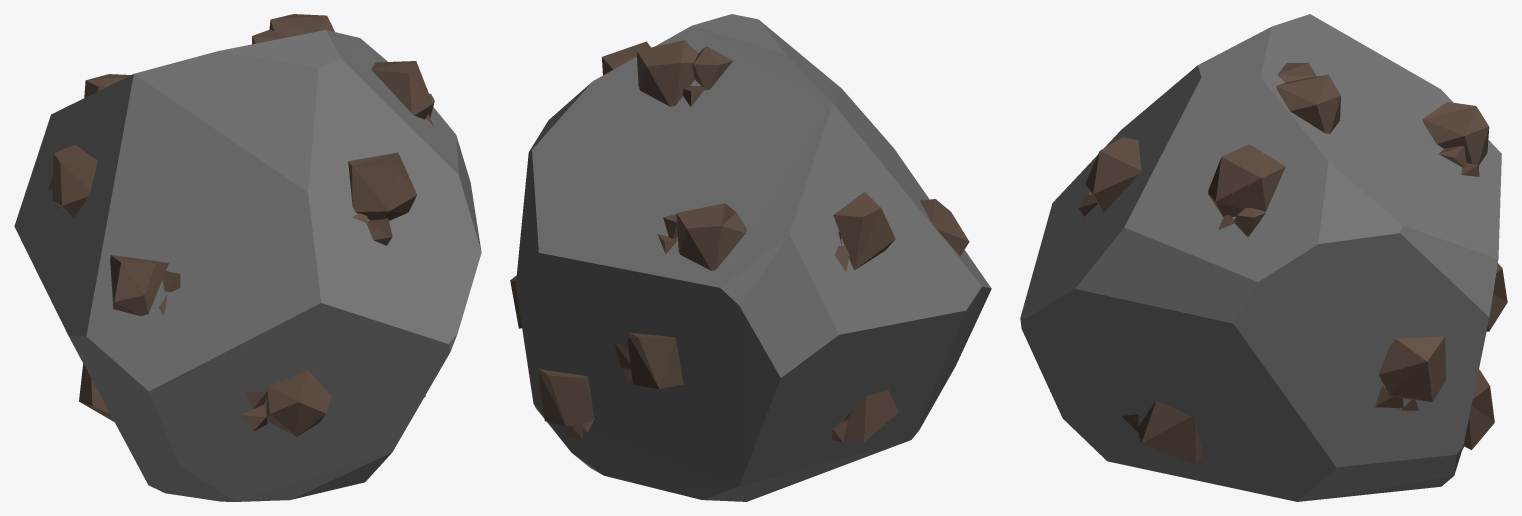
Rendered from SM_Ore_001_LOD2.fbx.
The picture shows the model from 3 angles, left to right: view 1: azimuth 30°, elevation 25°; view 2: azimuth 150°, elevation 25°; view 3: azimuth 270°, elevation 25°; orthographic projection. The views are drawn at different scales.
Parts seen in each view (by area): view 1: Cube.001, Cube; view 2: Cube.001, Cube; view 3: Cube.001, Cube.
Boxes of the visible parts, x1=… form: Cube.001: x1=14, y1=30, x2=481, y2=501; Cube: x1=47, y1=14, x2=434, y2=436; Cube.001: x1=515, y1=14, x2=991, y2=501; Cube: x1=510, y1=40, x2=969, y2=442; Cube.001: x1=1020, y1=14, x2=1501, y2=501; Cube: x1=1079, y1=63, x2=1507, y2=464.
Size of the model in its own units: 114 by 106 by 117.
